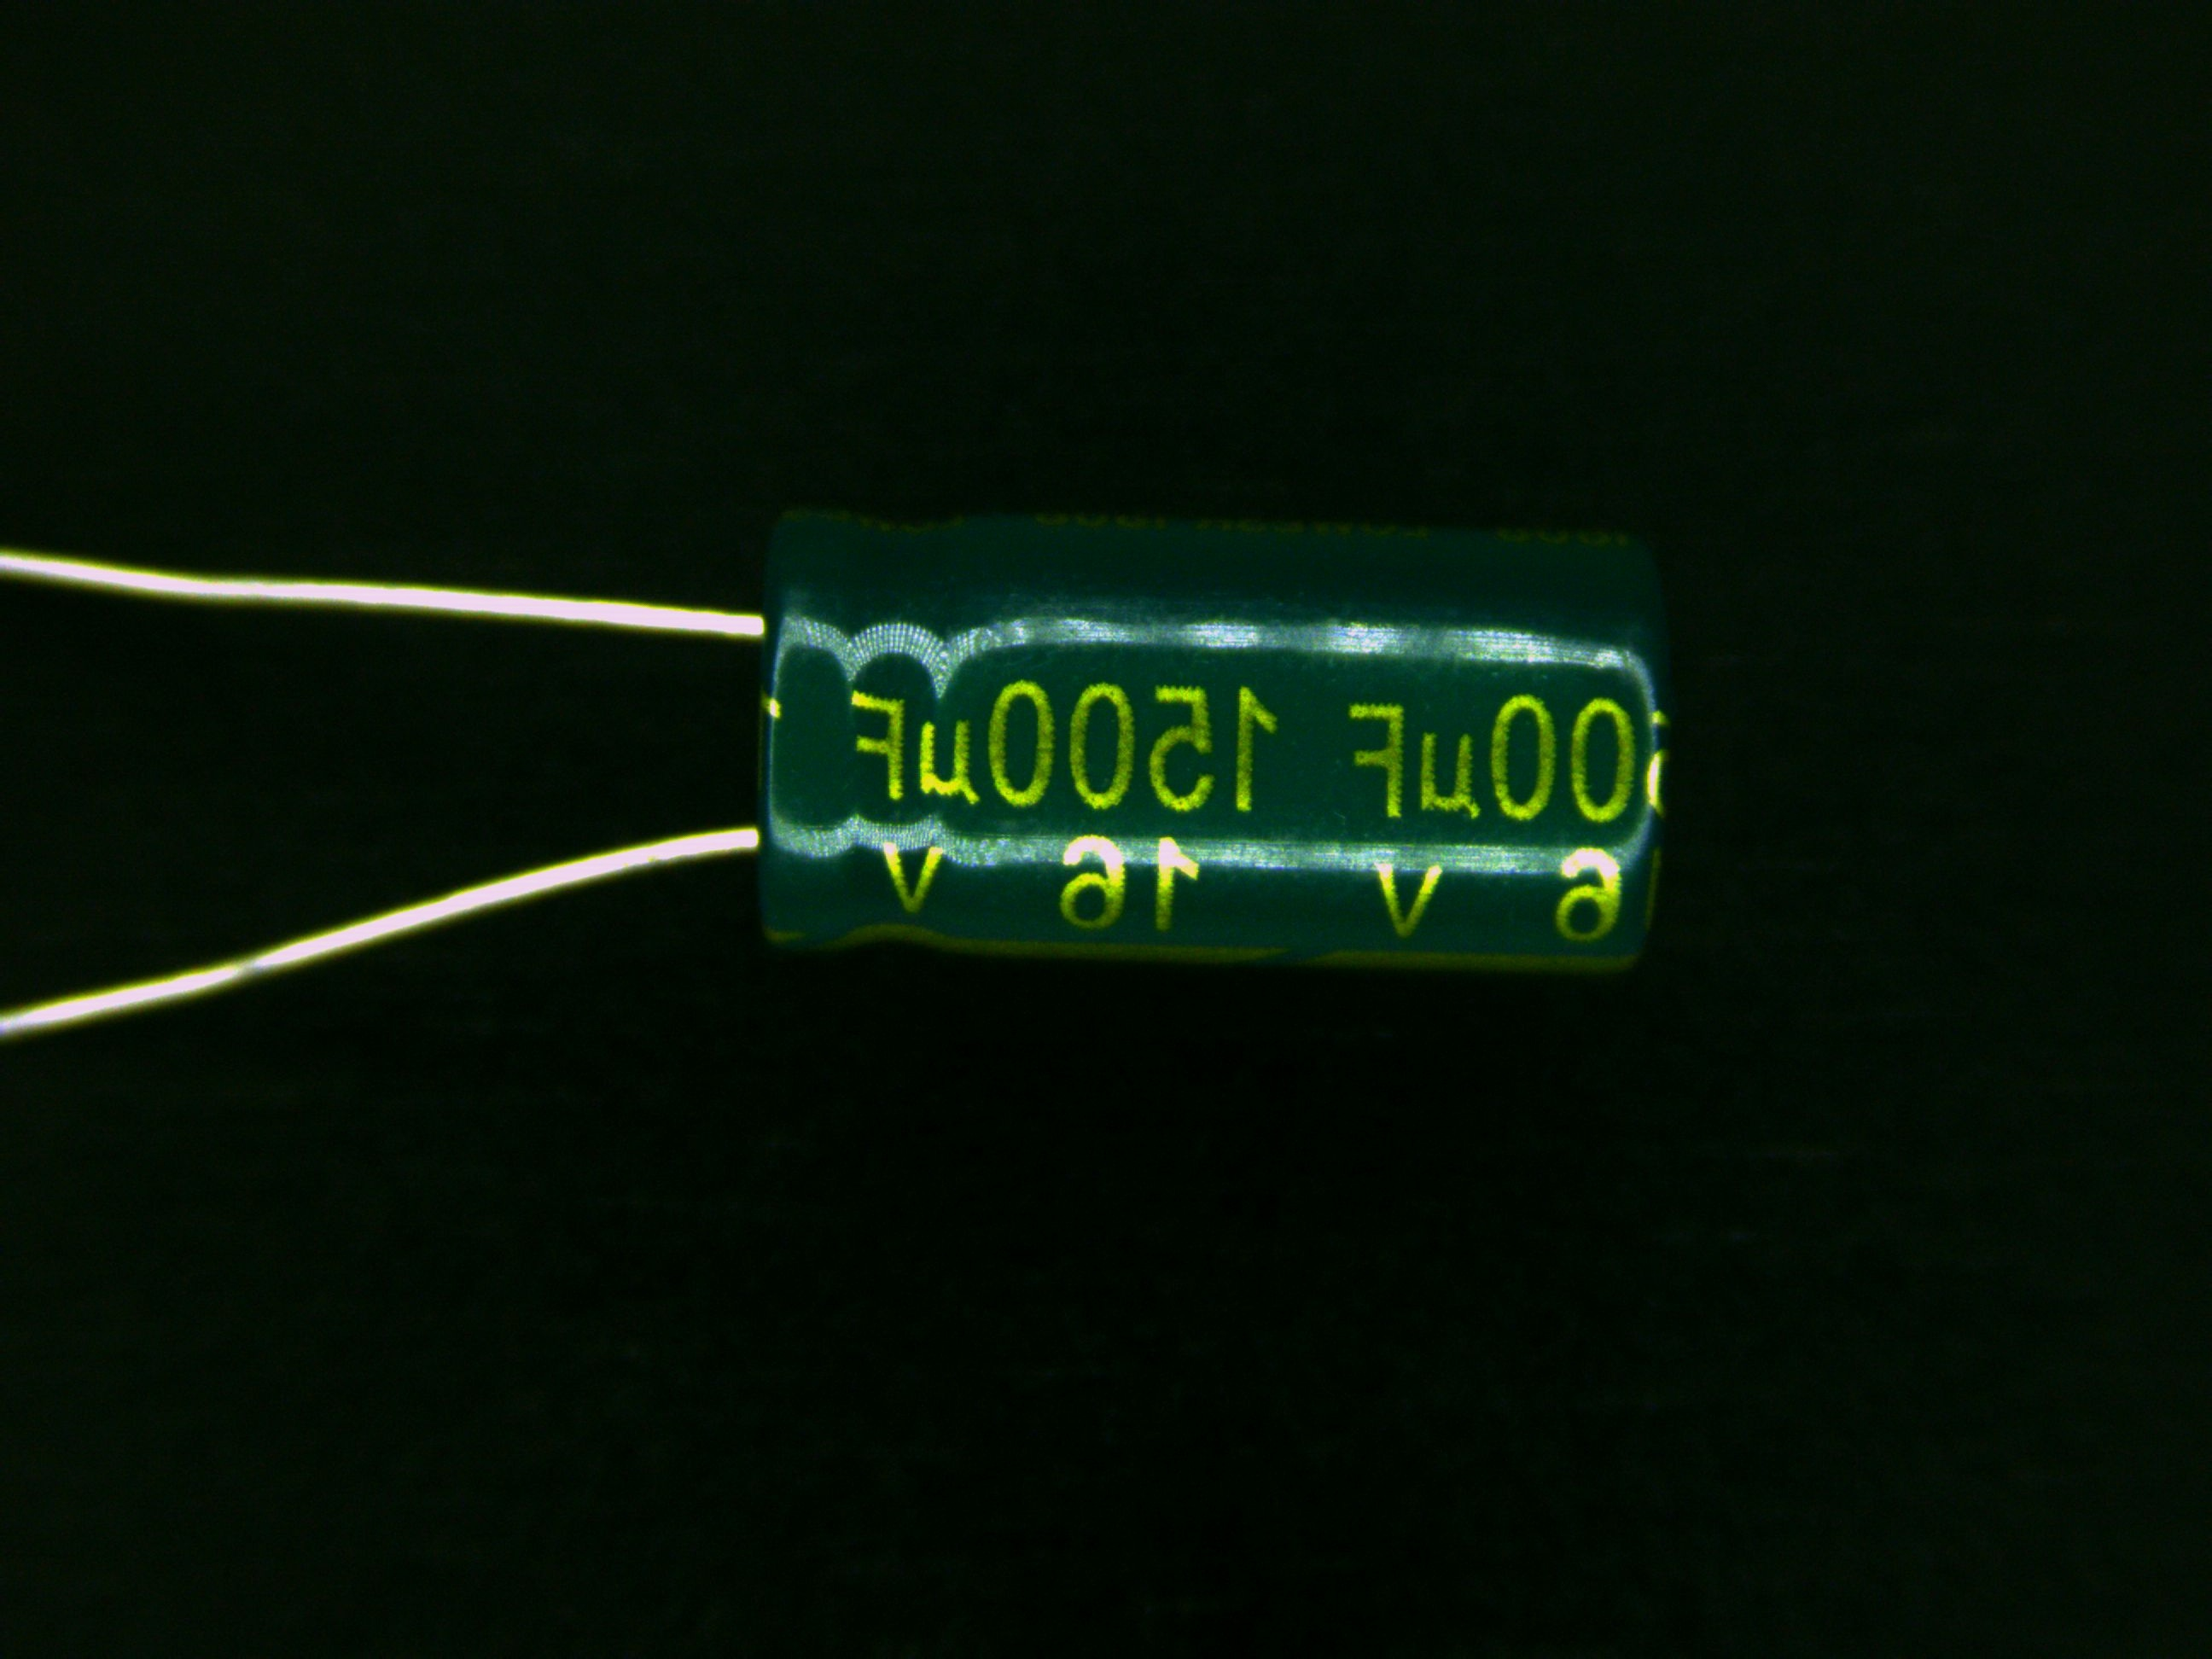c1: (559, 511, 1676, 967)
